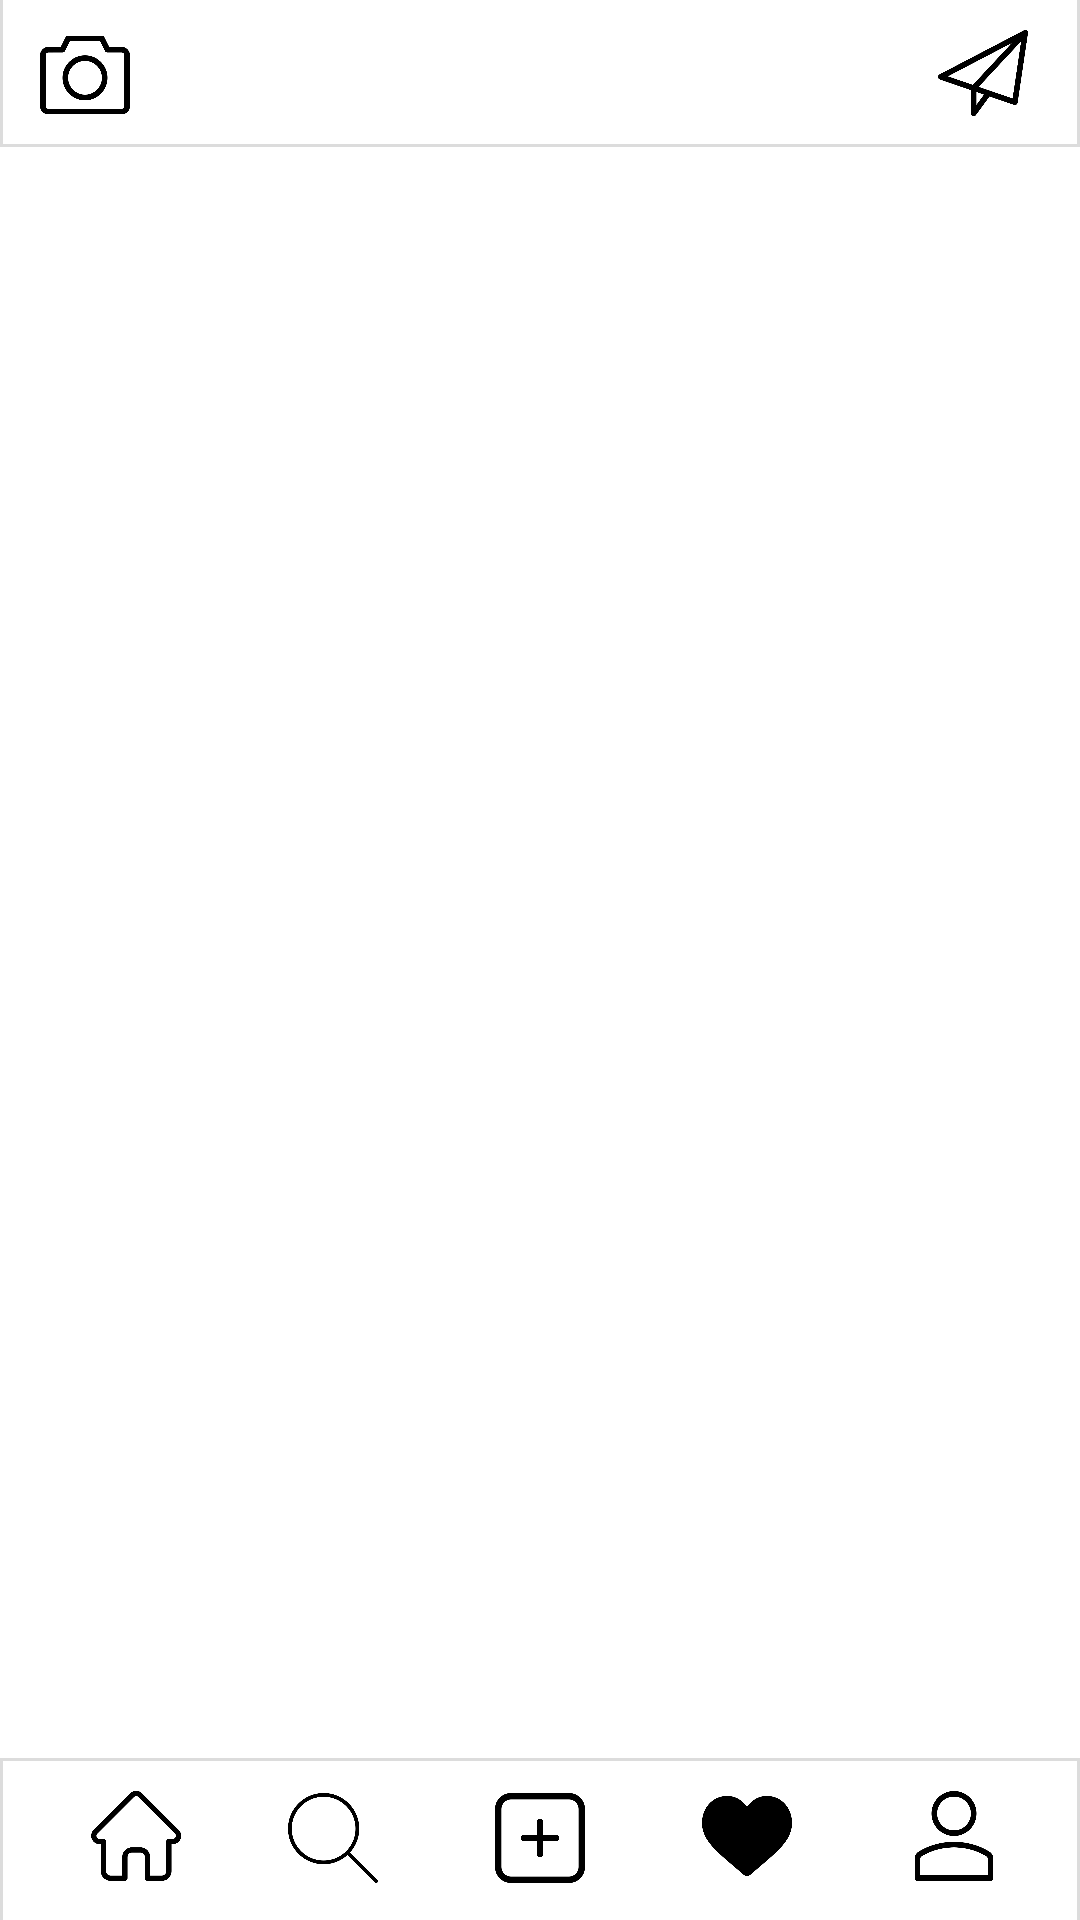

Screen size 1080w x 1920h. Icon name, then its center in pixels as (x=x, y=y):
camerabutton: (x=85, y=75)
dmbutton: (x=983, y=73)
